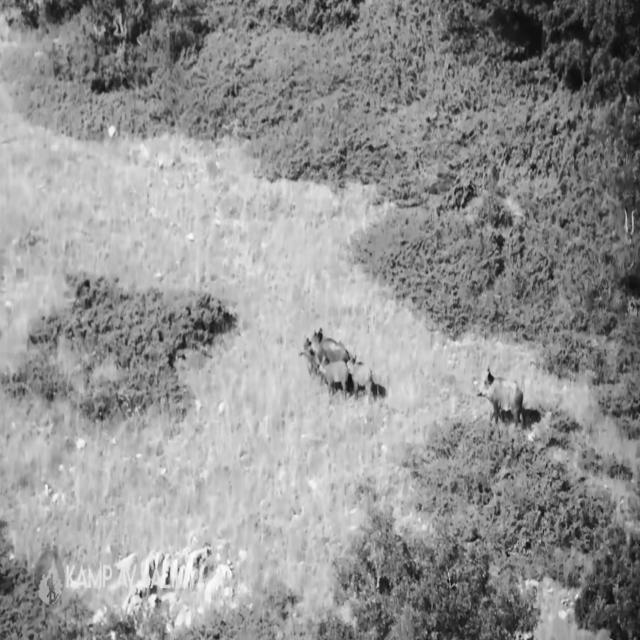boar: (301, 328, 384, 397), (477, 367, 522, 424)
